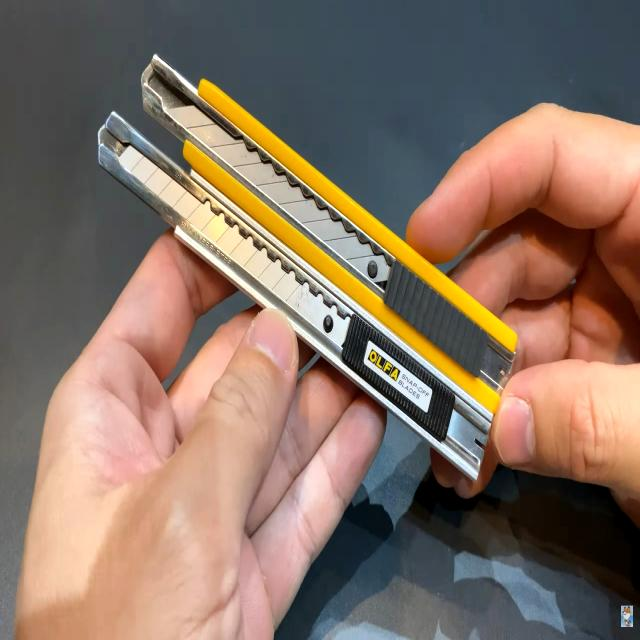cutter: (67, 0, 640, 566)
